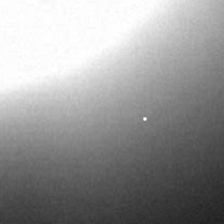Target: (142, 116, 149, 123)
